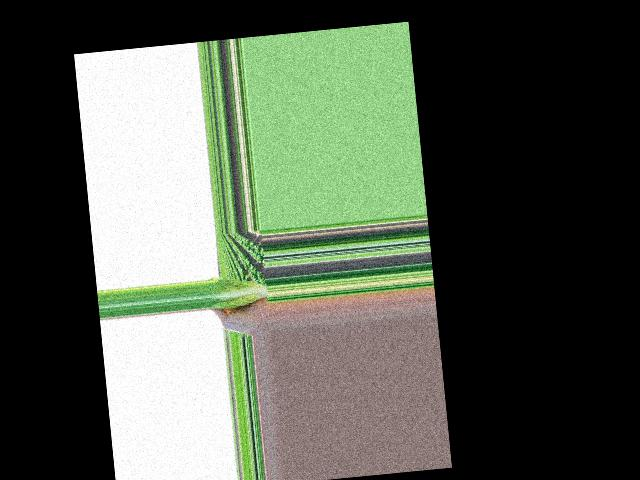lettuce: (209, 273, 269, 309)
